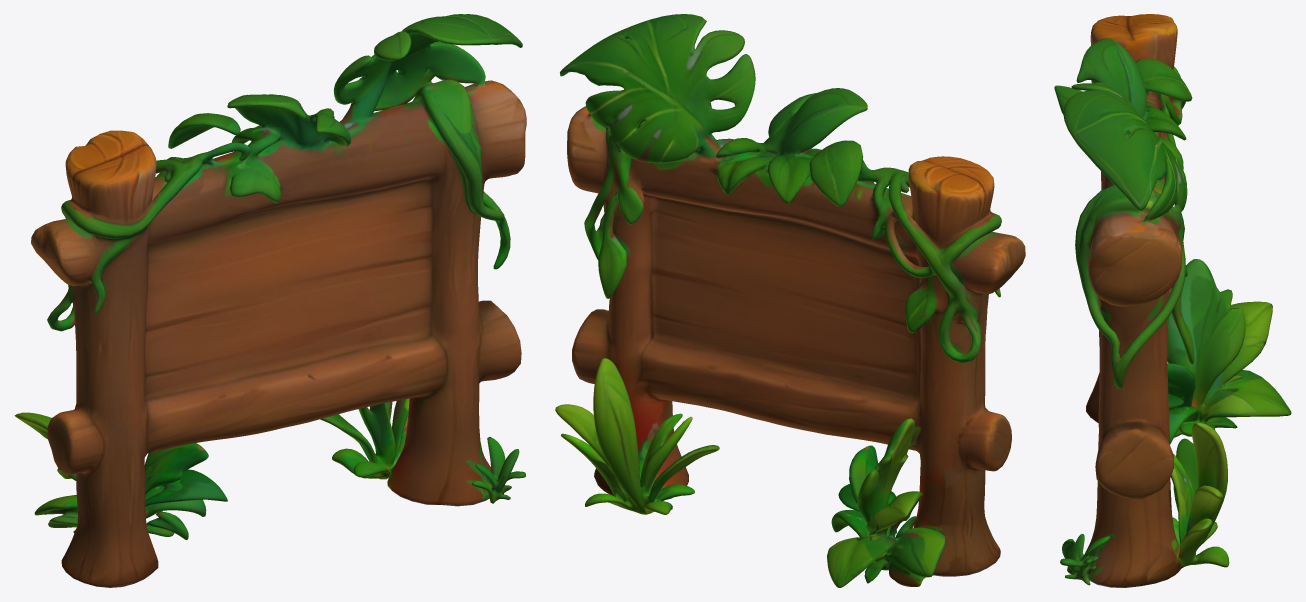
Rendered from sign.fbx.
3 views of the same model, side by side, from view 1: azimuth 30°, elevation 25°; view 2: azimuth 150°, elevation 25°; view 3: azimuth 270°, elevation 25° (orthographic). The views are drawn at different scales.
Visible parts, largest first — view 1: tripo_node_489605d8; view 2: tripo_node_489605d8; view 3: tripo_node_489605d8.
Part boxes in pixels (x1,y1,x2,y2): tripo_node_489605d8: [14, 14, 526, 587]; tripo_node_489605d8: [555, 14, 1025, 587]; tripo_node_489605d8: [1054, 14, 1291, 587].
Size of the model in its own units: 99.75 by 97.1 by 44.74.
1 material, 1 textured.
